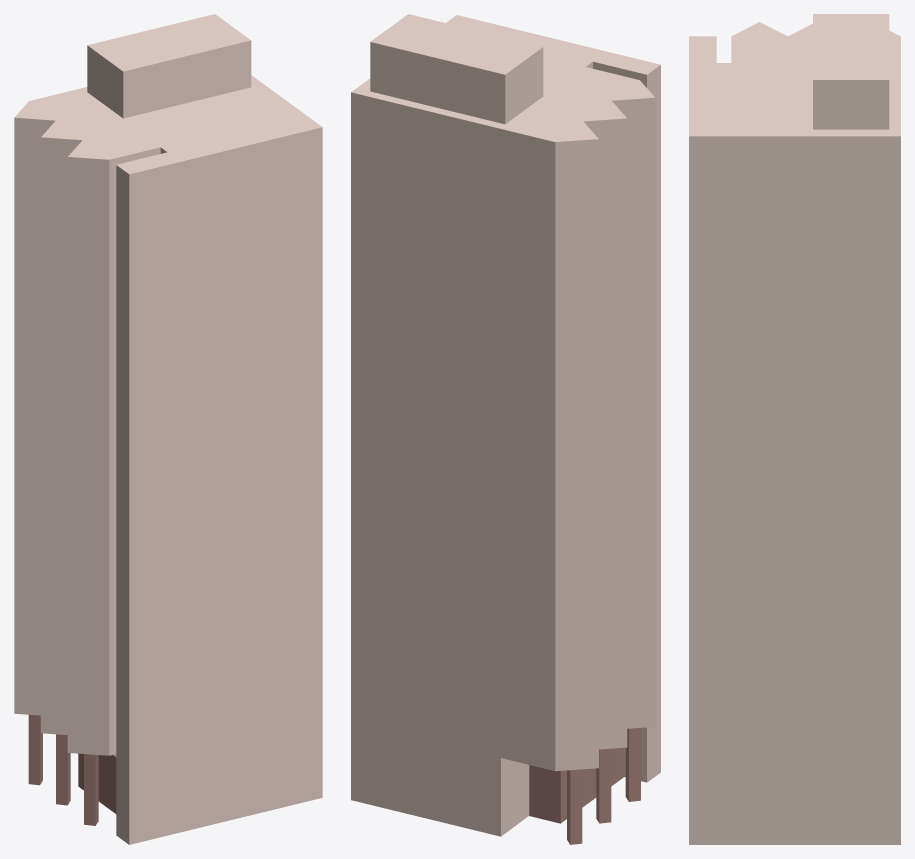
Rendered from Edificio029.FBX.
The picture shows the model from 3 angles, left to right: view 1: azimuth 30°, elevation 25°; view 2: azimuth 150°, elevation 25°; view 3: azimuth 270°, elevation 25°; orthographic projection. The views are drawn at different scales.
Visible parts, largest first — view 1: Edificio012; view 2: Edificio012; view 3: Edificio012.
Part boxes in pixels (x1=…): Edificio012: x1=14, y1=14, x2=322, y2=844; Edificio012: x1=351, y1=14, x2=660, y2=844; Edificio012: x1=689, y1=14, x2=900, y2=844.
Size of the model in its own units: 759 by 2349 by 594.
